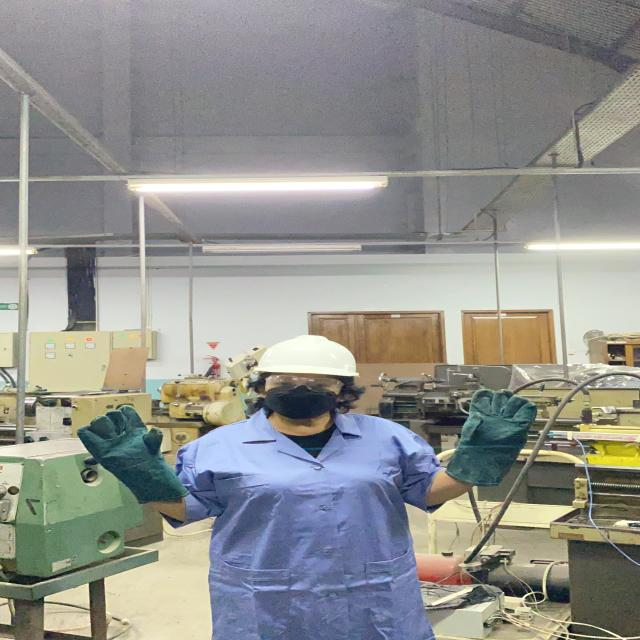face_mask: (254, 374, 357, 416)
glasses: (256, 373, 358, 394)
hand_glove: (68, 401, 174, 474), (451, 386, 548, 446)
head_helmet: (251, 332, 365, 382)
person: (67, 323, 558, 640)
